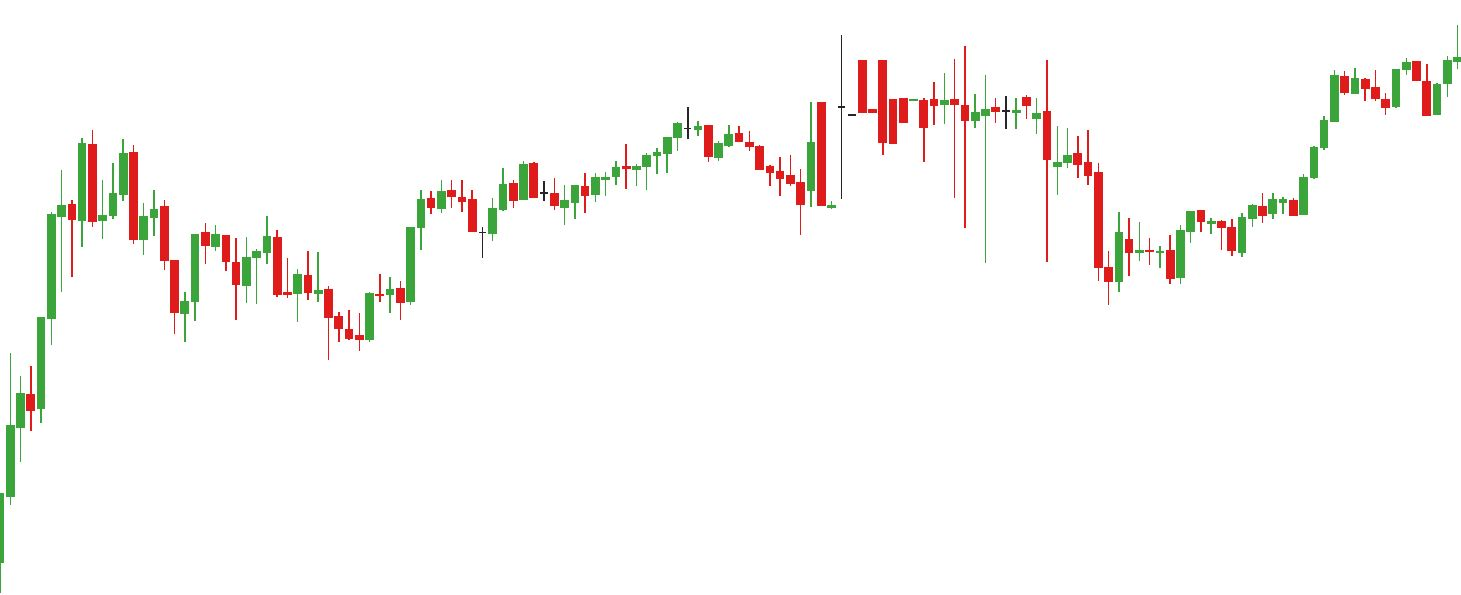buy: (168, 263, 335, 358), (415, 200, 489, 268)
